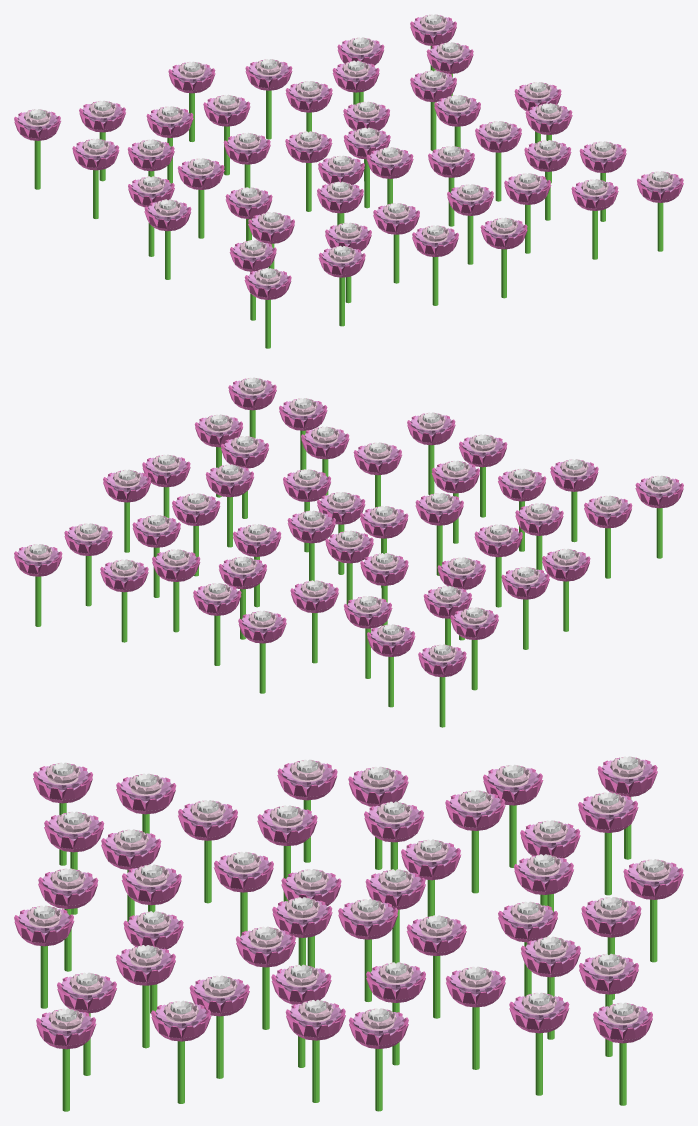
The model's file is CloverPatch.fbx.
3 views of the same model, one above another, from view 1: azimuth 30°, elevation 25°; view 2: azimuth 150°, elevation 25°; view 3: azimuth 270°, elevation 25° (orthographic). The views are drawn at different scales.
Visible parts, largest first — view 1: Cylinder.001, Cylinder.002, Cylinder.003, Cylinder; view 2: Cylinder, Cylinder.003, Cylinder.002, Cylinder.001; view 3: Cylinder.001, Cylinder, Cylinder.002, Cylinder.003.
Part boxes in pixels (x1=…): Cylinder.001: x1=366, y1=103, x2=683, y2=298; Cylinder.002: x1=14, y1=61, x2=332, y2=256; Cylinder.003: x1=144, y1=155, x2=458, y2=348; Cylinder: x1=245, y1=14, x2=561, y2=208; Cylinder: x1=14, y1=469, x2=335, y2=665; Cylinder.003: x1=360, y1=434, x2=683, y2=631; Cylinder.002: x1=238, y1=530, x2=549, y2=727; Cylinder.001: x1=142, y1=377, x2=455, y2=574; Cylinder.001: x1=14, y1=897, x2=345, y2=1111; Cylinder: x1=338, y1=897, x2=652, y2=1111; Cylinder.002: x1=348, y1=756, x2=683, y2=963; Cylinder.003: x1=33, y1=759, x2=341, y2=971.
Size of the model in its own units: 204 by 33.45 by 208.
